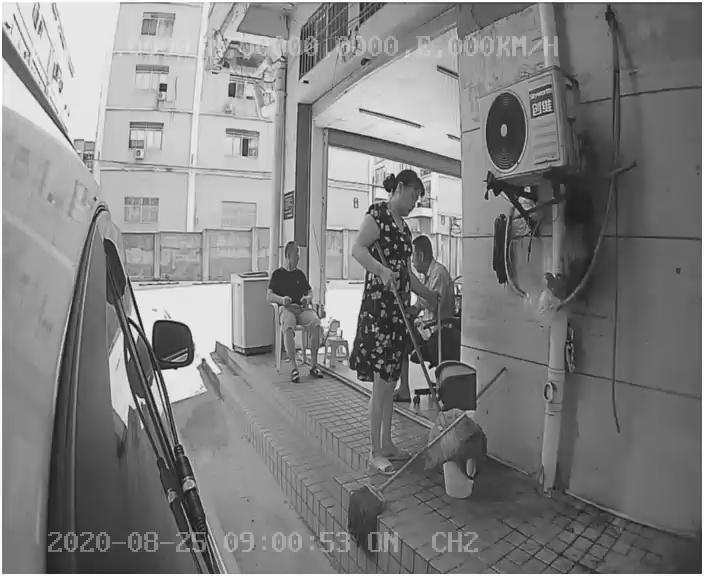person: (343, 168, 432, 430)
